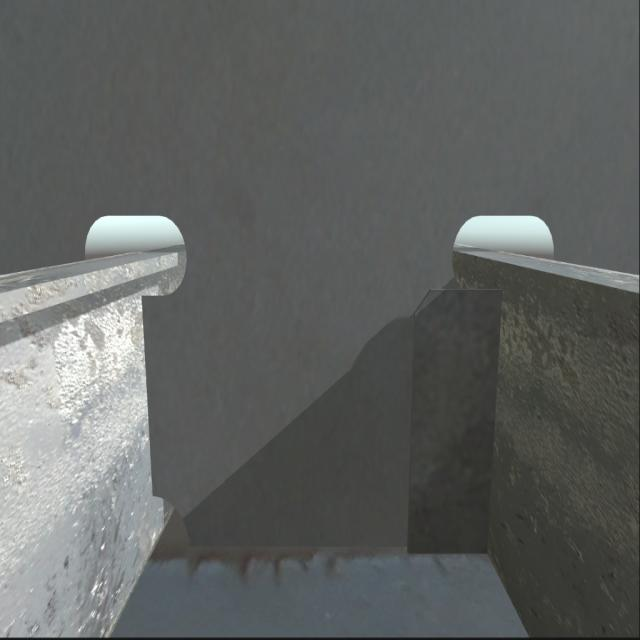fillet_hole: (150, 494, 194, 559)
fillet_yong_jeop_jang: (184, 533, 489, 559)
longi_yong_jeop_jang: (481, 299, 504, 553), (139, 290, 160, 498)
plate_CP03: (402, 289, 502, 553)
